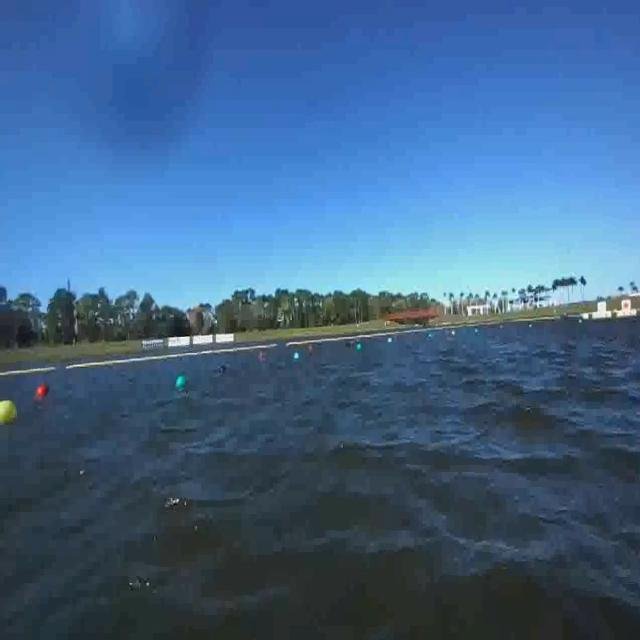green-buoy: (177, 375, 186, 390), (356, 344, 363, 354)
red-buoy: (37, 385, 48, 397)
yellow-buoy: (0, 401, 19, 427)
